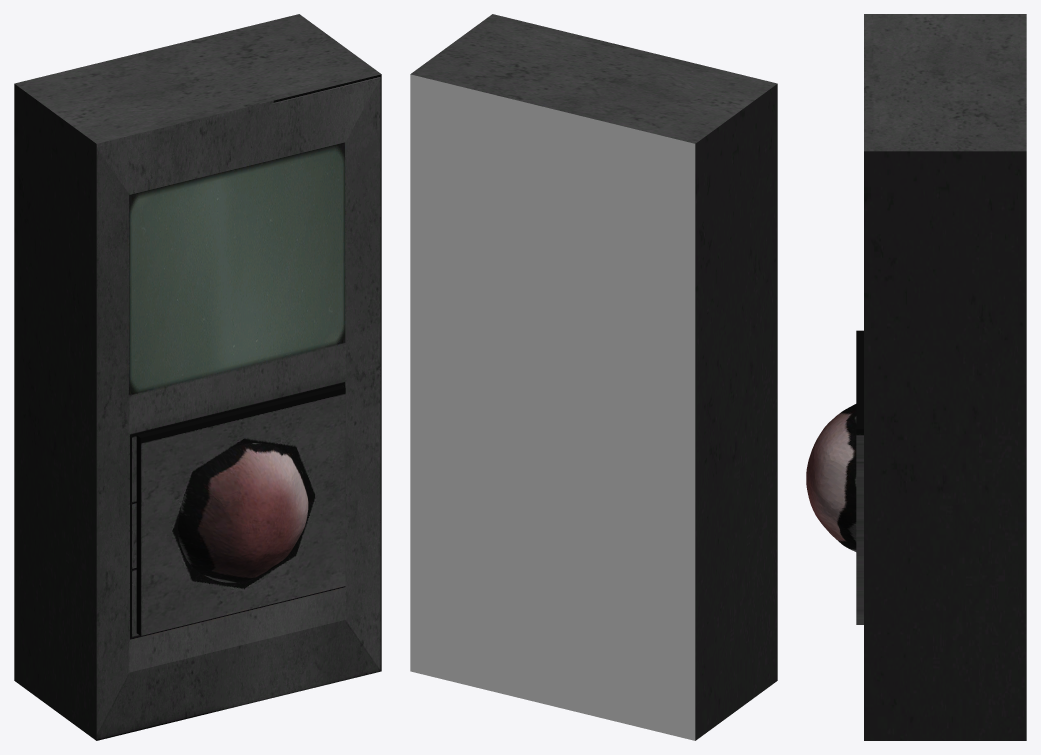
Rendered from Button.fbx.
3 renders of one model, left to right at view 1: azimuth 30°, elevation 25°; view 2: azimuth 150°, elevation 25°; view 3: azimuth 270°, elevation 25°, orthographic.
Parts seen in each view (by area): view 1: node_id7; view 2: node_id7 (×2); view 3: node_id7.
Part boxes in pixels (x1,y1,x2,y2): node_id7: (14, 14, 381, 740); node_id7 (×2): (410, 14, 777, 740); node_id7: (806, 14, 1026, 740).
Bounding box in the file's own units: 0.2559 × 0.512 × 0.1735.
2 materials, 1 textured.
